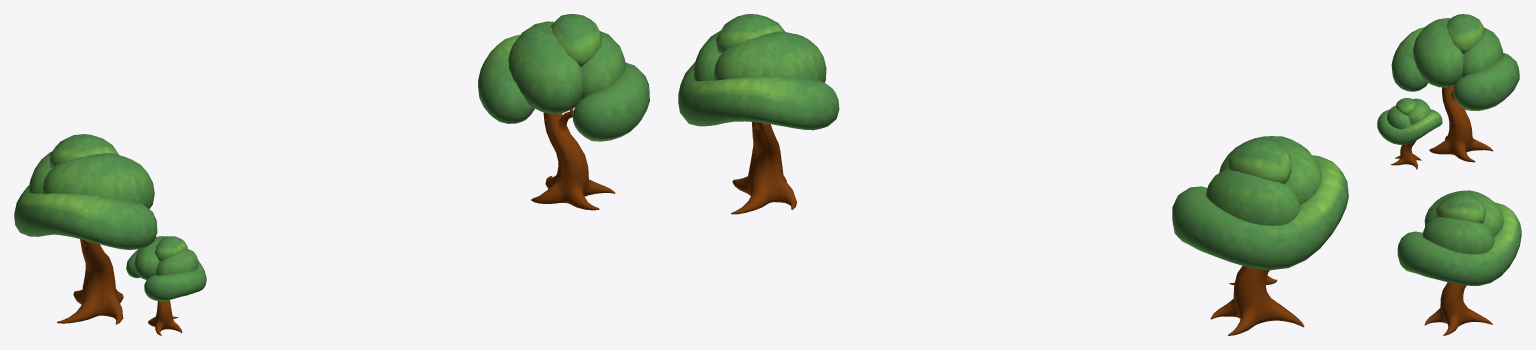
Rendered from cay.fbx.
The picture shows the model from 3 angles, left to right: view 1: azimuth 30°, elevation 25°; view 2: azimuth 150°, elevation 25°; view 3: azimuth 270°, elevation 25°; orthographic projection. The views are drawn at different scales.
Visible parts, largest first — view 1: cay; view 2: cay; view 3: cay.
Boxes of the visible parts, bbox=[...] form: cay: bbox=[14, 14, 649, 335]; cay: bbox=[678, 14, 1348, 335]; cay: bbox=[1377, 14, 1521, 335].
Bounding box in the file's own units: 1454 × 393 × 394.
Materials: 1 (1 with a texture image).
